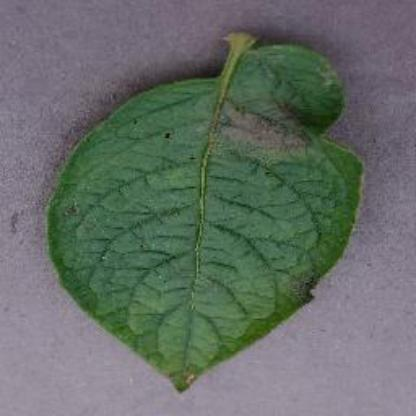Late-Blight: (40, 26, 374, 396)
